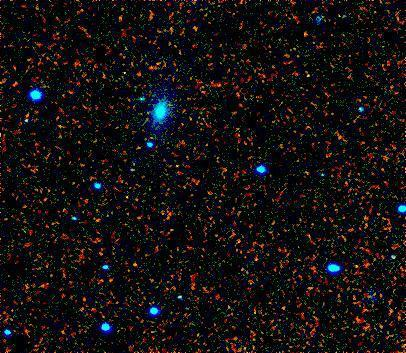star: (120, 249, 150, 279)
